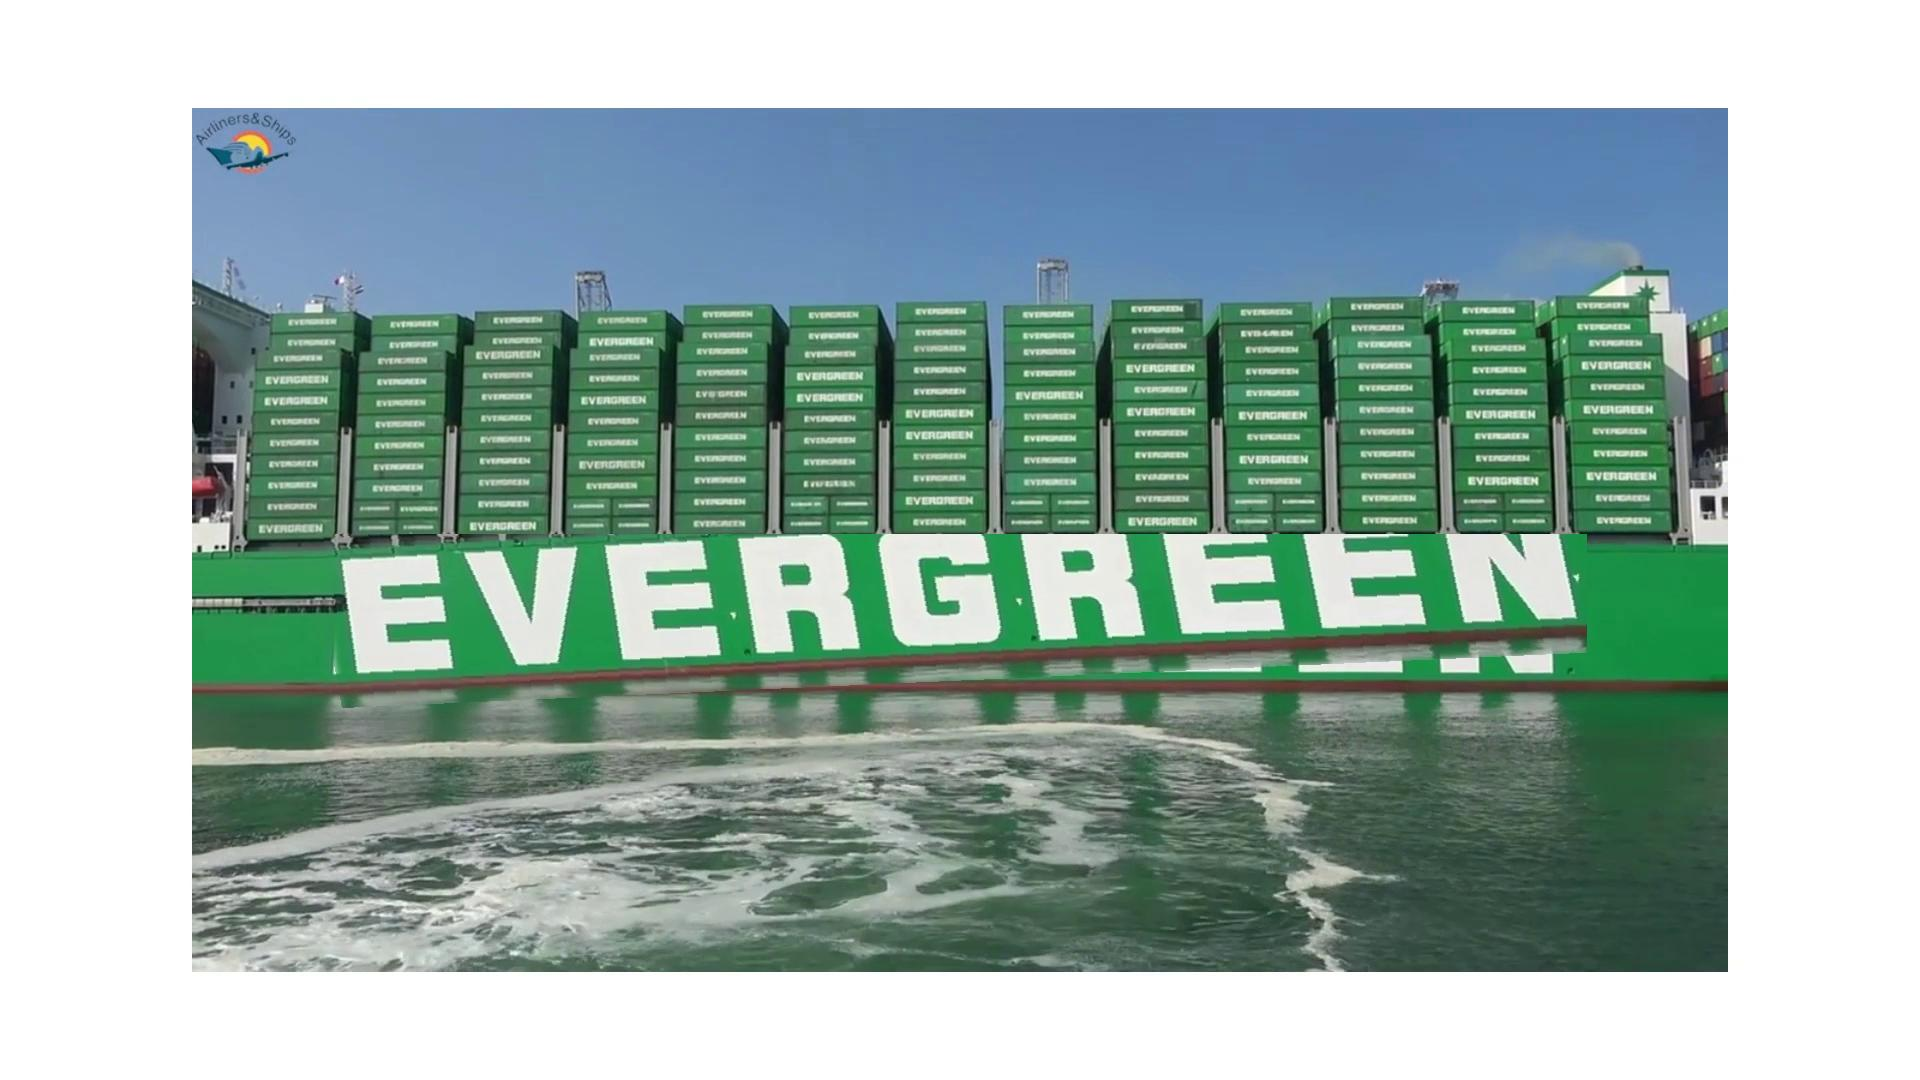OCR: (311, 534, 1588, 708)
